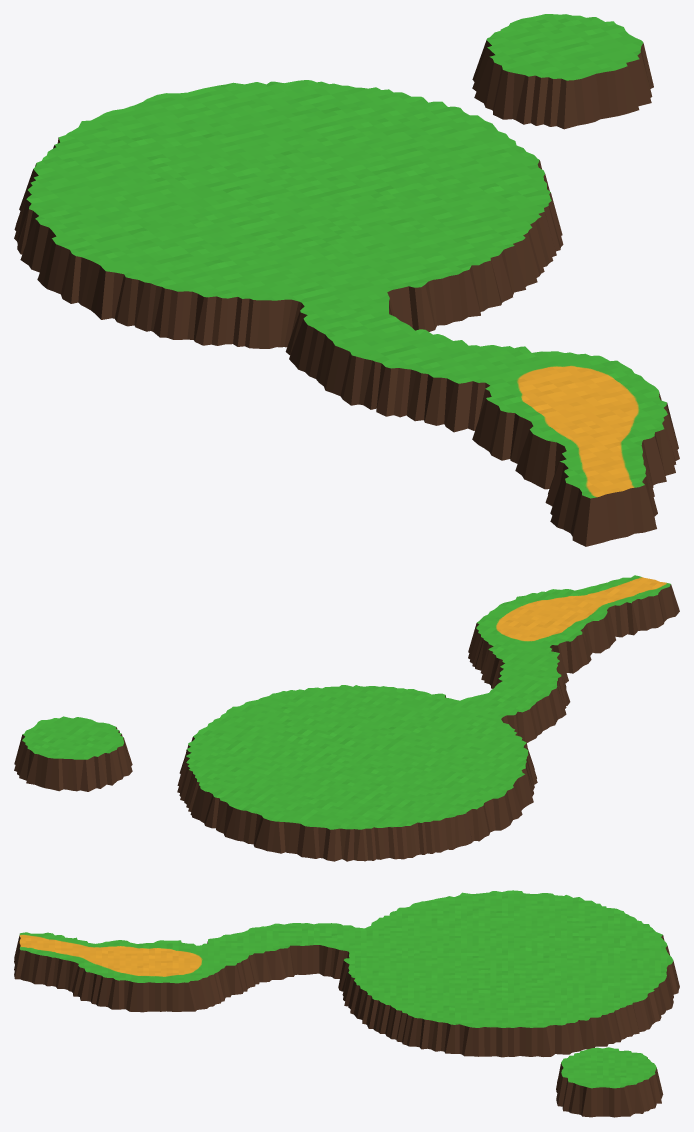
The model's file is SectionFour.FBX.
The picture shows the model from 3 angles, top to bottom: view 1: azimuth 30°, elevation 25°; view 2: azimuth 150°, elevation 25°; view 3: azimuth 270°, elevation 25°; orthographic projection. The views are drawn at different scales.
Visible parts, largest first — view 1: SectionFour; view 2: SectionFour; view 3: SectionFour.
Boxes of the visible parts, x1,y1,x2,y2 form: SectionFour: (14, 14, 679, 546); SectionFour: (14, 575, 679, 861); SectionFour: (14, 890, 679, 1117).
Bounding box in the file's own units: 6201 × 398 × 8593.
1 material, 1 textured.
